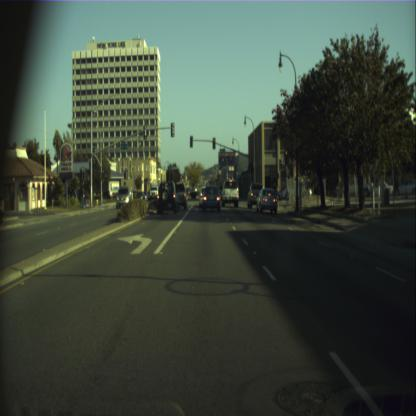Red: (284, 149, 288, 166), (212, 137, 216, 148)
off: (250, 162, 253, 172), (190, 136, 192, 146)
